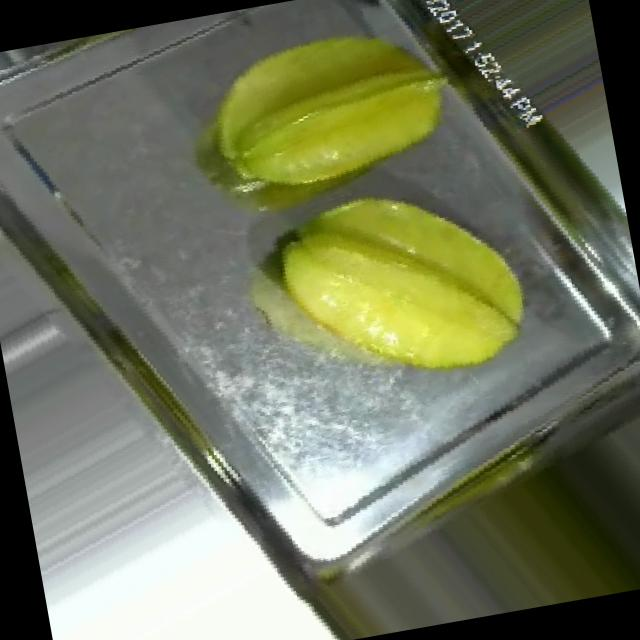fruit: (218, 126, 572, 452), (151, 0, 496, 259), (408, 0, 615, 180)
